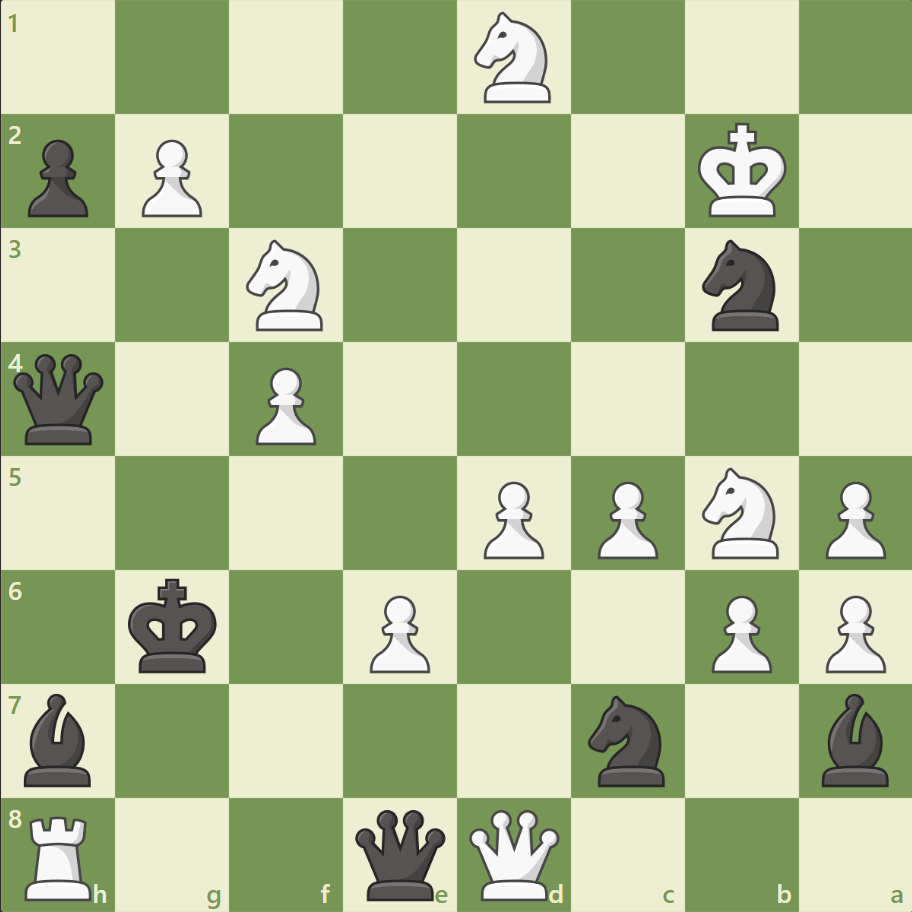K: (692, 117, 792, 225)
N: (692, 461, 789, 564), (238, 234, 335, 337), (465, 7, 562, 110)
P: (701, 586, 776, 677), (474, 473, 549, 564), (247, 359, 322, 450), (133, 132, 208, 223), (815, 586, 889, 677), (361, 586, 435, 677), (815, 473, 889, 564), (588, 473, 662, 564)
Q: (464, 804, 563, 903)
R: (19, 806, 102, 904)
b: (812, 687, 896, 790), (17, 687, 101, 790)
k: (124, 571, 224, 679)
n: (579, 688, 676, 791), (692, 234, 789, 337)
p: (20, 132, 95, 223)
q: (10, 349, 109, 449), (351, 804, 450, 903)
